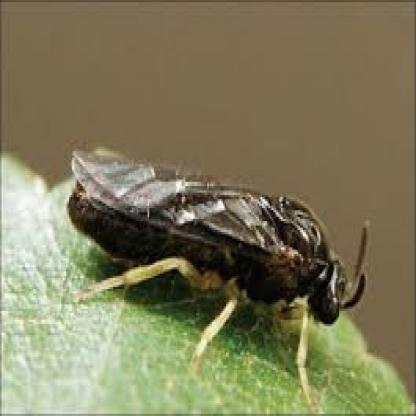sawfly: (67, 144, 377, 416)
